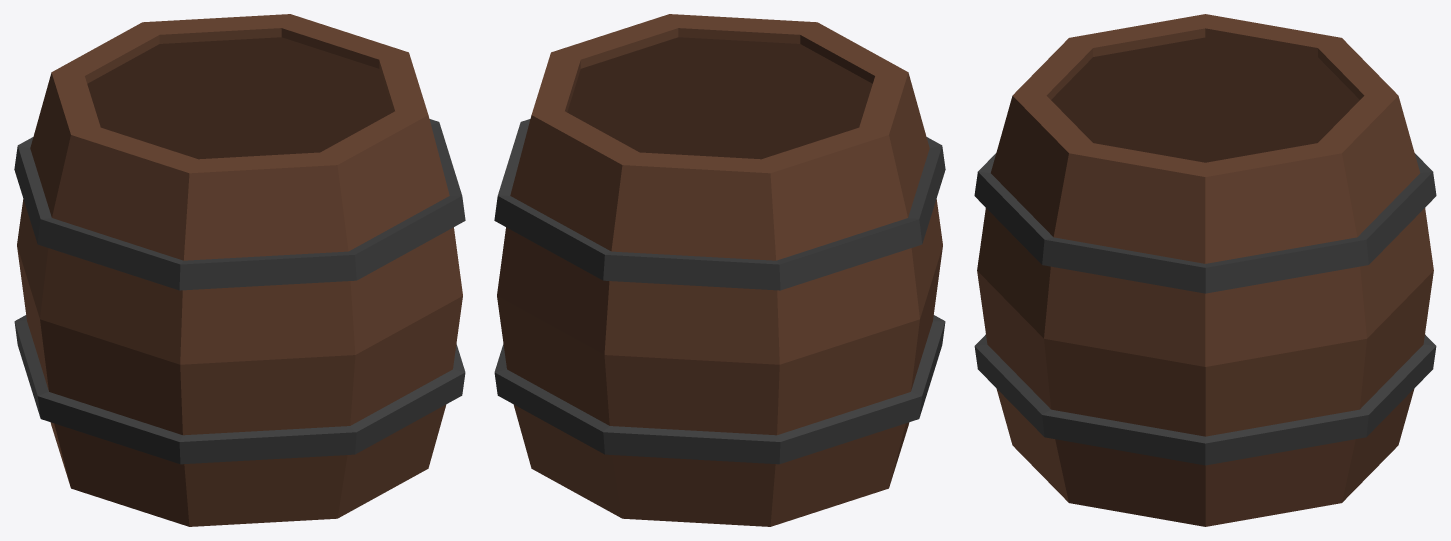
File: tonneau1.glb
The picture shows the model from 3 angles, left to right: view 1: azimuth 30°, elevation 25°; view 2: azimuth 150°, elevation 25°; view 3: azimuth 270°, elevation 25°; orthographic projection.
Parts seen in each view (by area): view 1: tonneau; view 2: tonneau; view 3: tonneau.
Boxes of the visible parts, bbox=[...] form: tonneau: bbox=[14, 14, 465, 526]; tonneau: bbox=[494, 14, 945, 526]; tonneau: bbox=[974, 14, 1436, 526].
Size of the model in its own units: 0.9834 by 0.8214 by 0.9834.
Materials: 1 (1 with a texture image).
